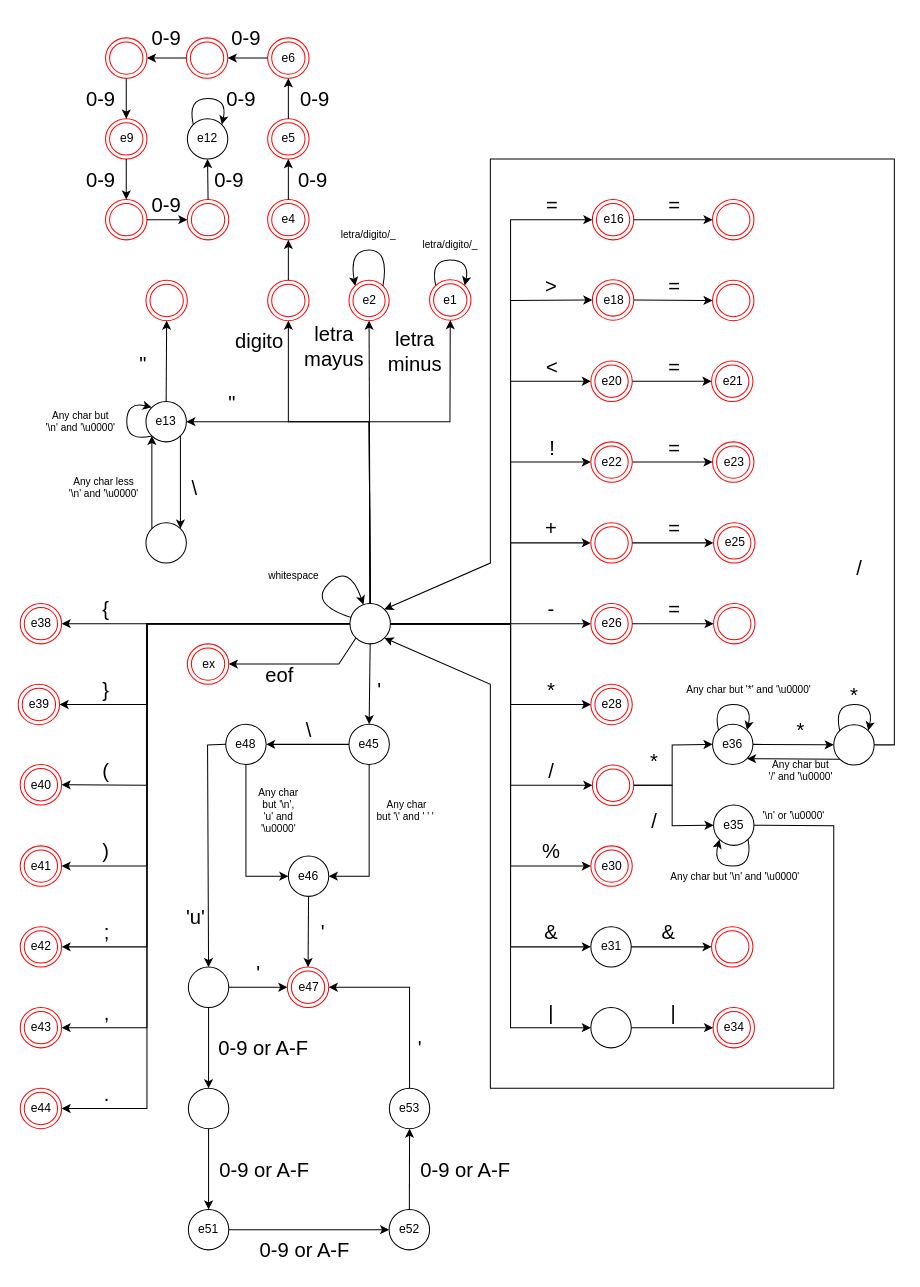
The diagram is 920 pixels wide and 1287 high, and some of its shapes have lost their labels. The centre of each missing label's shape, as x and y in pixels:
"e0" belongs at point 369,623.
"e10" belongs at point 126,219.
"e11" belongs at point 207,219.
"e14" belongs at point 165,542.
"e15" belongs at point 166,300.
"e17" belongs at point 733,219.
"e19" belongs at point 733,300.
"e24" belongs at point 611,542.
"e27" belongs at point 734,623.
"e29" belongs at point 612,784.
"e3" belongs at point 288,300.
"e32" belongs at point 732,946.
"e33" belongs at point 610,1027.
"e37" belongs at point 853,744.
"e49" belongs at point 208,986.
"e50" belongs at point 208,1108.
"e7" belongs at point 206,57.
"e8" belongs at point 126,57.
